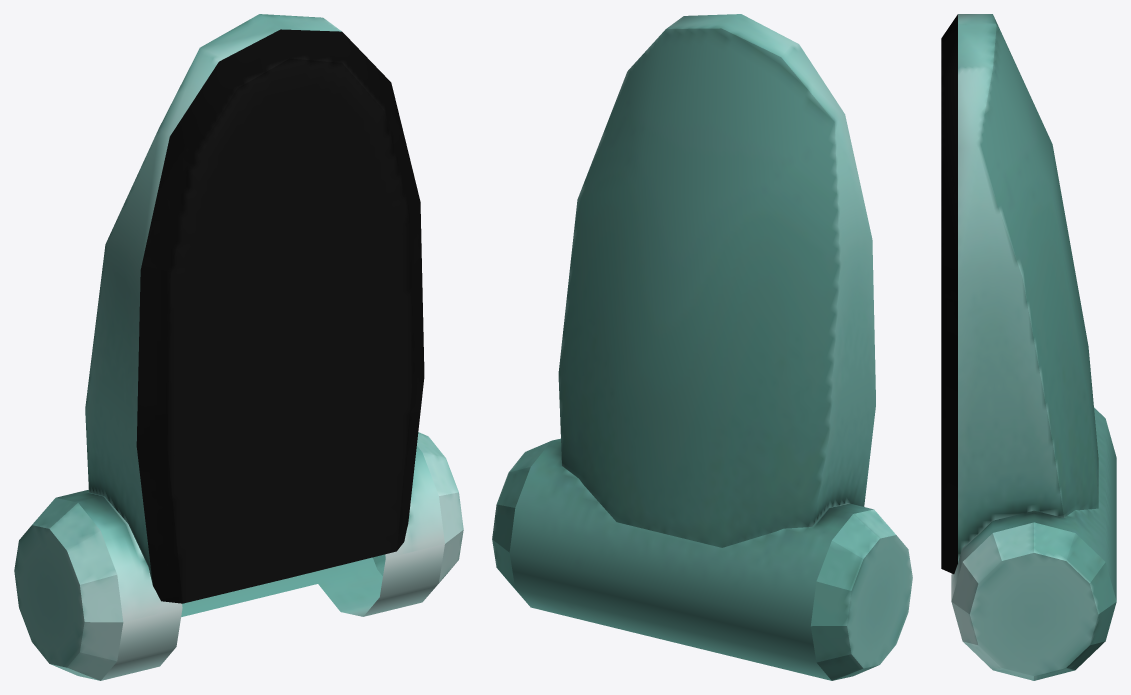
The model's file is LowerHand_Left.obj.
3 renders of one model, left to right at view 1: azimuth 30°, elevation 25°; view 2: azimuth 150°, elevation 25°; view 3: azimuth 270°, elevation 25°, orthographic. The views are drawn at different scales.
Visible parts, largest first — view 1: LowerHand_Left; view 2: LowerHand_Left; view 3: LowerHand_Left.
Boxes of the visible parts, x1=… form: LowerHand_Left: x1=14, y1=14, x2=463, y2=680; LowerHand_Left: x1=492, y1=14, x2=912, y2=680; LowerHand_Left: x1=941, y1=14, x2=1116, y2=680.
Size of the model in its own units: 0.072 by 0.1157 by 0.0316.
Materials: 1 (1 with a texture image).
